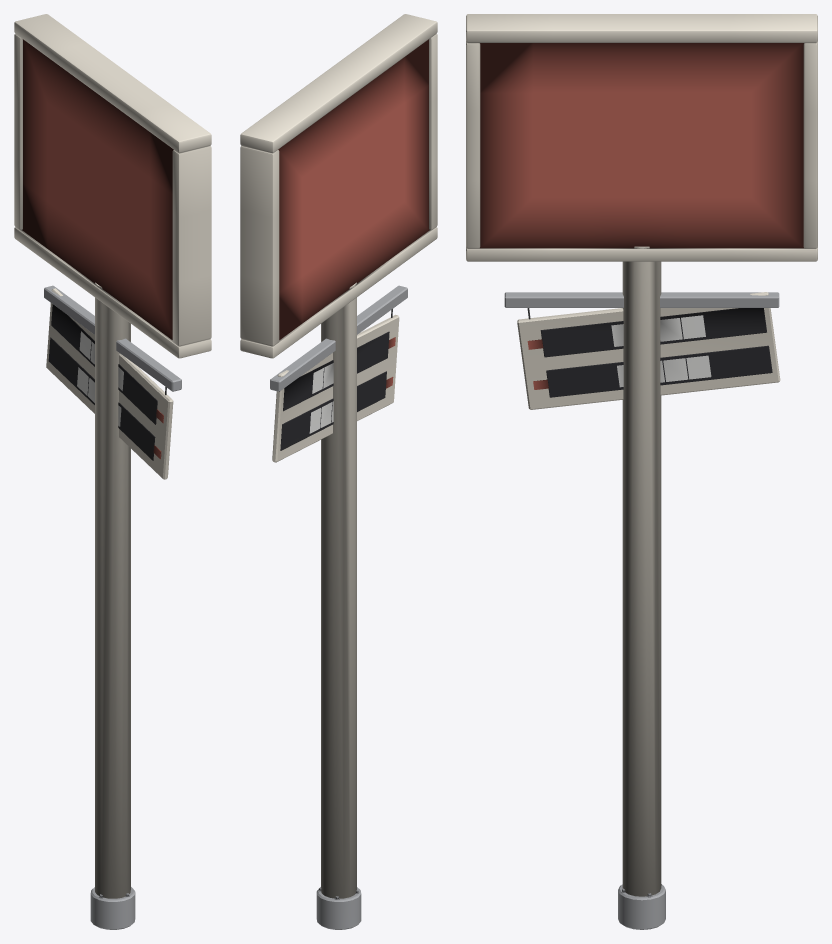
The model's file is signpole_m.glb.
3 views of the same model, side by side, from view 1: azimuth 30°, elevation 25°; view 2: azimuth 150°, elevation 25°; view 3: azimuth 270°, elevation 25° (orthographic). The views are drawn at different scales.
Visible parts, largest first — view 1: PART; view 2: PART; view 3: PART.
Boxes of the visible parts, x1,y1,x2,y2 form: PART: [14, 14, 211, 929]; PART: [240, 14, 437, 929]; PART: [466, 14, 817, 929].
Bounding box in the file's own units: 0.3 × 6.2 × 2.2.
